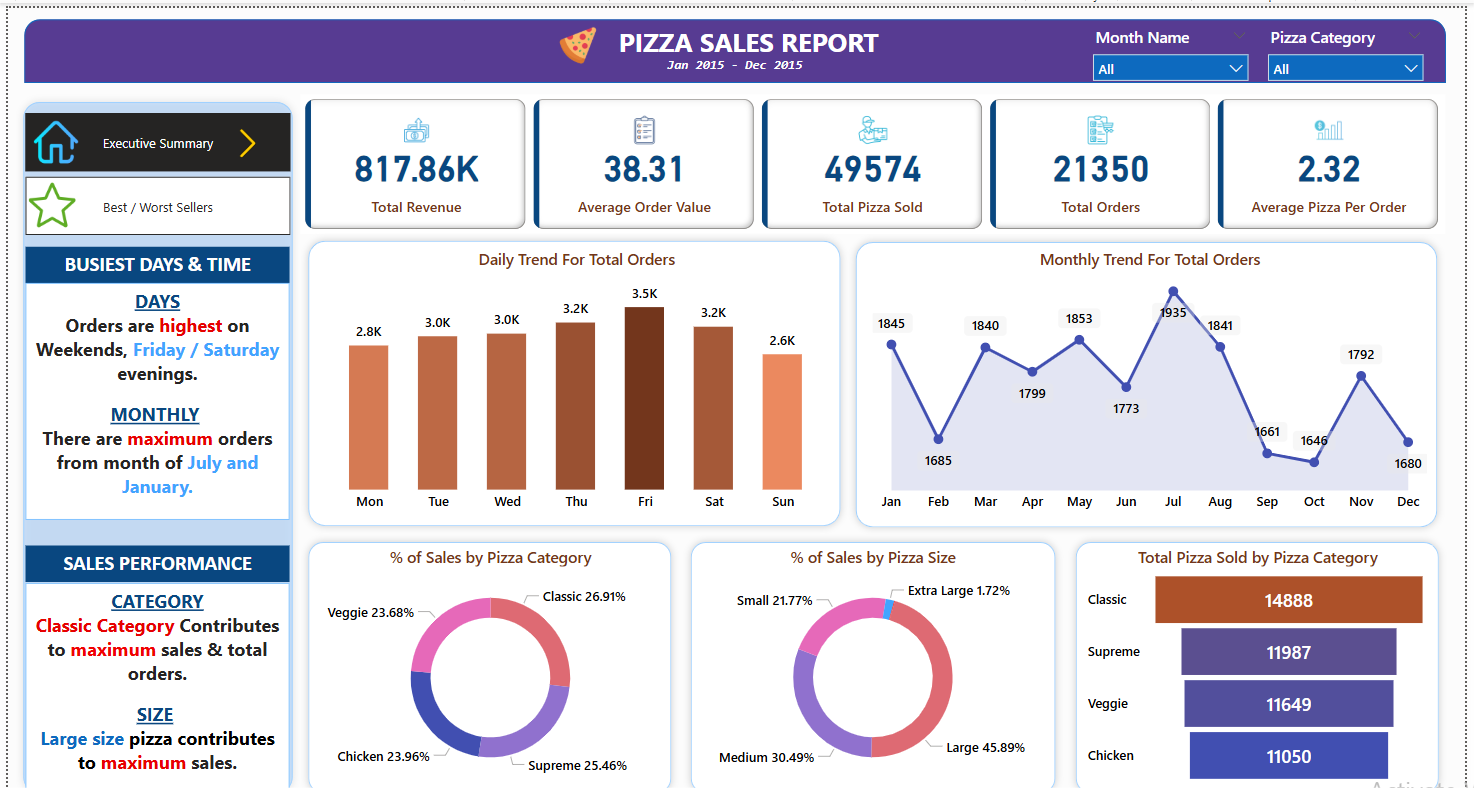

The page's visual inventory and layout, read from the dashboard file:
{"tool":"powerbi","page":{"name":"Executive Summary","canvas":[1500,820],"ordinal":0},"visuals":[{"type":"shape","box":[8.2,88.6,293.6,728.2],"z":0},{"type":"cardVisual","fields":{"Data":["Calculated Measures.Total Revenue","Calculated Measures.Average Order Value","Calculated Measures.Total Pizza Sold","Calculated Measures.Total Orders","Calculated Measures.Average Pizza Per Order"]},"box":[301.8,88.6,1179.2,144.3],"z":1000},{"type":"shape","box":[16.4,11.5,1464.5,65.6],"z":2000},{"type":"textbox","box":[606.8,11.5,313.2,65.6],"z":3000},{"type":"textbox","box":[611.7,44.3,273.9,32.8],"z":4000},{"type":"image","box":[562.5,14.8,49.2,49.2],"z":5000},{"type":"shape","box":[301.8,232.3,564.2,310],"z":6000},{"type":"columnChart","title":"Daily  Trend For Total Orders","fields":{"Category":["Date.Day"],"Y":["Calculated Measures.Total Orders"]},"box":[317.8,246.7,535.6,281.1],"z":7000},{"type":"shape","box":[865.9,232.9,615,310],"z":8000},{"type":"areaChart","title":"Monthly Trend For Total Orders","fields":{"Category":["Date.Month_Name"],"Y":["Calculated Measures.Total Orders"]},"box":[886,247,581,281],"z":9000},{"type":"shape","box":[301.7,541.7,390,275],"z":10000},{"type":"shape","box":[695.8,541.7,391.7,275],"z":11000},{"type":"shape","box":[1091.7,541.7,390,275],"z":12000},{"type":"donutChart","title":"% of Sales by Pizza Category","fields":{"Category":["Pizza Category Key.Pizza Category"],"Y":["Calculated Measures.Total Revenue"]},"box":[318.2,553.6,358.2,250.9],"z":13000},{"type":"donutChart","title":"% of Sales by Pizza Size","fields":{"Y":["Calculated Measures.Total Revenue"],"Category":["Pizza Size Dim.Pizza Size"]},"box":[711.8,553.6,358.2,250.9],"z":14000},{"type":"funnel","fields":{"Y":["Calculated Measures.Total Pizza Sold"],"Category":["Pizza Category Key.Pizza Category"]},"box":[1107.3,553.6,360,250.9],"z":15000},{"type":"textbox","box":[18,246,272.2,37.7],"z":16000},{"type":"textbox","box":[18,283.7,272.2,244.4],"z":17000},{"type":"textbox","box":[18,554.3,272.2,37.7],"z":18000},{"type":"textbox","box":[18,592,272.2,213.2],"z":19000},{"type":"slicer","fields":{"Values":["Pizza Category Key.Pizza Category"]},"box":[1287.5,14.2,180,61.7],"z":20000},{"type":"slicer","fields":{"Values":["Date.Month_Name"]},"box":[1107.5,14.2,180,61.7],"z":21000},{"type":"pageNavigator","box":[18,108.2,273.9,60.7],"z":21001},{"type":"pageNavigator","box":[18,173.8,273.9,60.7],"z":21002},{"type":"image","box":[203.4,119.7,86.9,39.4],"z":21003},{"type":"image","box":[21.3,108.2,55.8,60.7],"z":21004},{"type":"image","box":[16.4,172.2,57.4,60.7],"z":21005}]}

Visuals, with their boxes in screenshot pixels (x1, y1, x2, y2), scaled from the page's 1500x820 canvas onto the 1474x788 screenshot:
shape: <box>8,85,297,785</box>
cardVisual - Calculated Measures.Total Revenue x Calculated Measures.Average Order Value: <box>297,85,1455,224</box>
shape: <box>16,11,1455,74</box>
textbox: <box>596,11,904,74</box>
textbox: <box>601,43,870,74</box>
image: <box>553,14,601,62</box>
shape: <box>297,223,851,521</box>
"Daily  Trend For Total Orders" columnChart: <box>312,237,839,507</box>
shape: <box>851,224,1455,522</box>
"Monthly Trend For Total Orders" areaChart: <box>871,237,1442,507</box>
shape: <box>296,521,680,785</box>
shape: <box>684,521,1069,785</box>
shape: <box>1073,521,1456,785</box>
"% of Sales by Pizza Category" donutChart: <box>313,532,665,773</box>
"% of Sales by Pizza Size" donutChart: <box>699,532,1051,773</box>
funnel - Calculated Measures.Total Pizza Sold x Pizza Category Key.Pizza Category: <box>1088,532,1442,773</box>
textbox: <box>18,236,285,273</box>
textbox: <box>18,273,285,507</box>
textbox: <box>18,533,285,569</box>
textbox: <box>18,569,285,774</box>
slicer - Pizza Category Key.Pizza Category: <box>1265,14,1442,73</box>
slicer - Date.Month_Name: <box>1088,14,1265,73</box>
pageNavigator: <box>18,104,287,162</box>
pageNavigator: <box>18,167,287,225</box>
image: <box>200,115,285,153</box>
image: <box>21,104,76,162</box>
image: <box>16,165,73,224</box>
